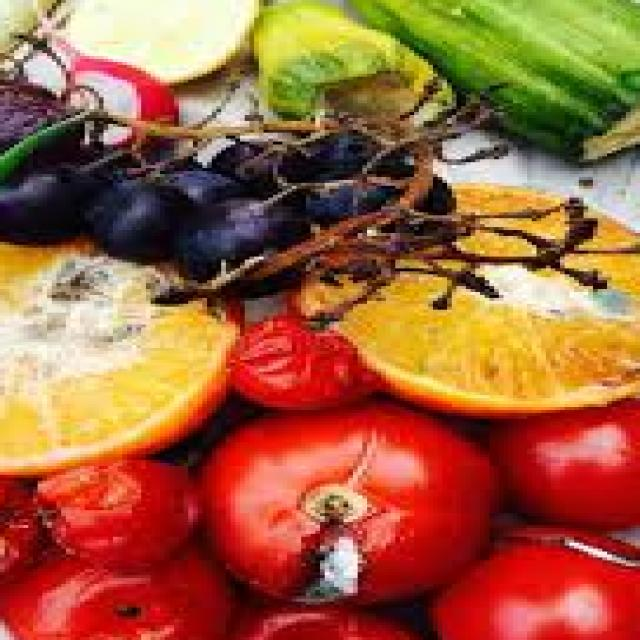inorganic: (4, 82, 558, 318), (5, 235, 368, 496), (308, 155, 630, 425), (257, 8, 630, 168), (176, 413, 503, 589), (424, 511, 631, 636), (482, 397, 640, 548), (18, 458, 211, 565), (5, 550, 257, 625)
